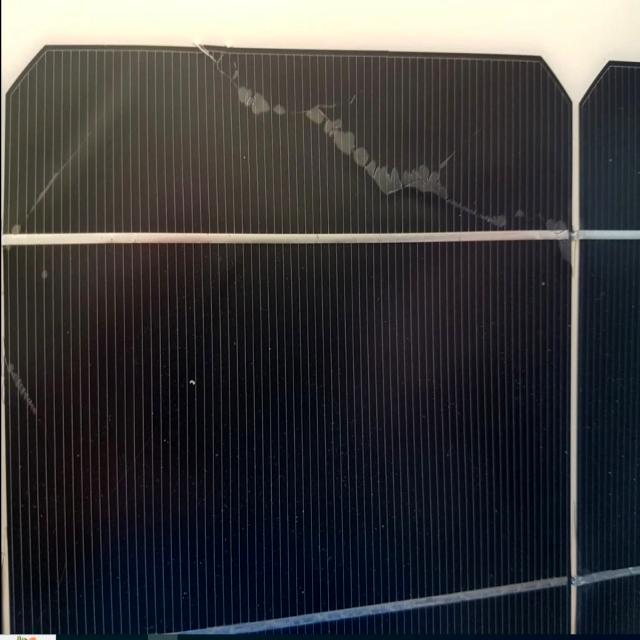shadow: (202, 48, 557, 226)
